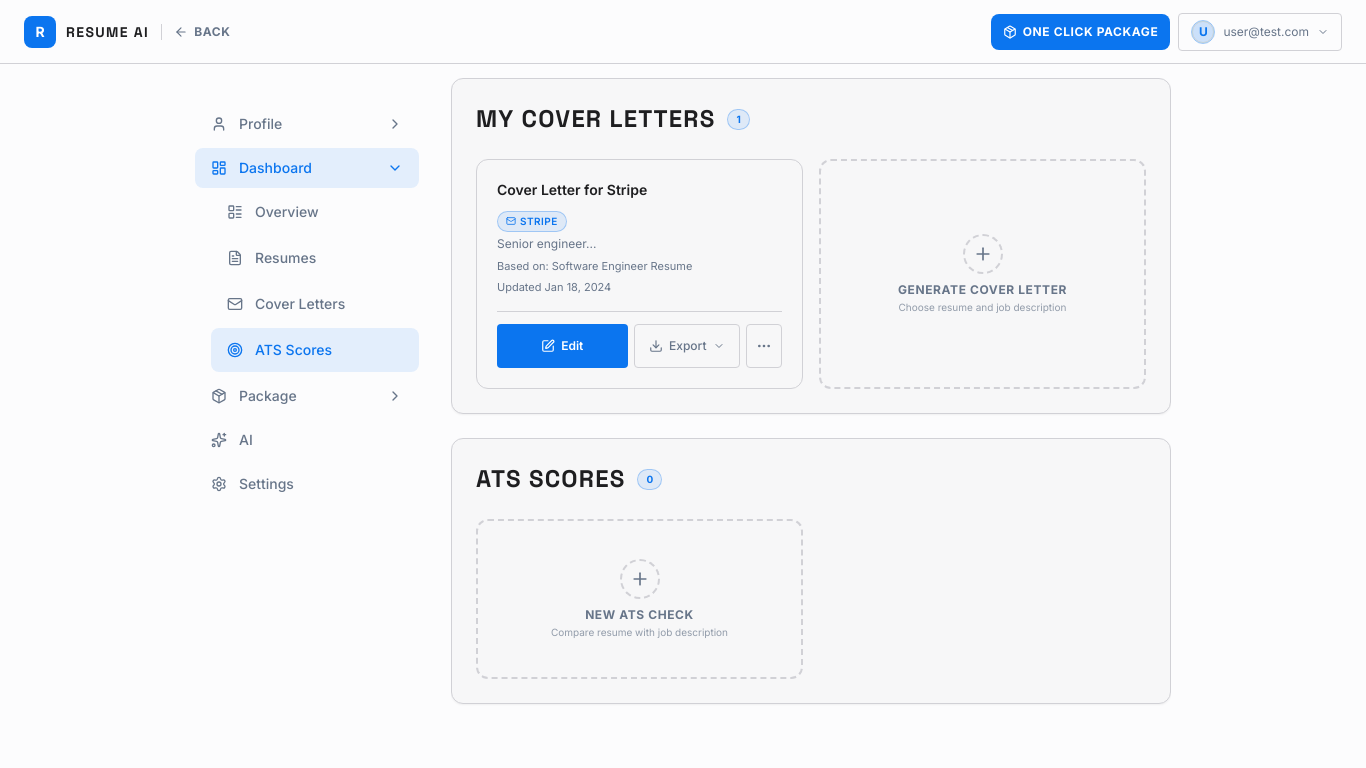
it: Dashboard — ATS check modal › runs the ATS check, shows the result, and persists the score
(page scrolled)
Click the text "New ATS Check" at (639, 614), box [585,606,694,622]
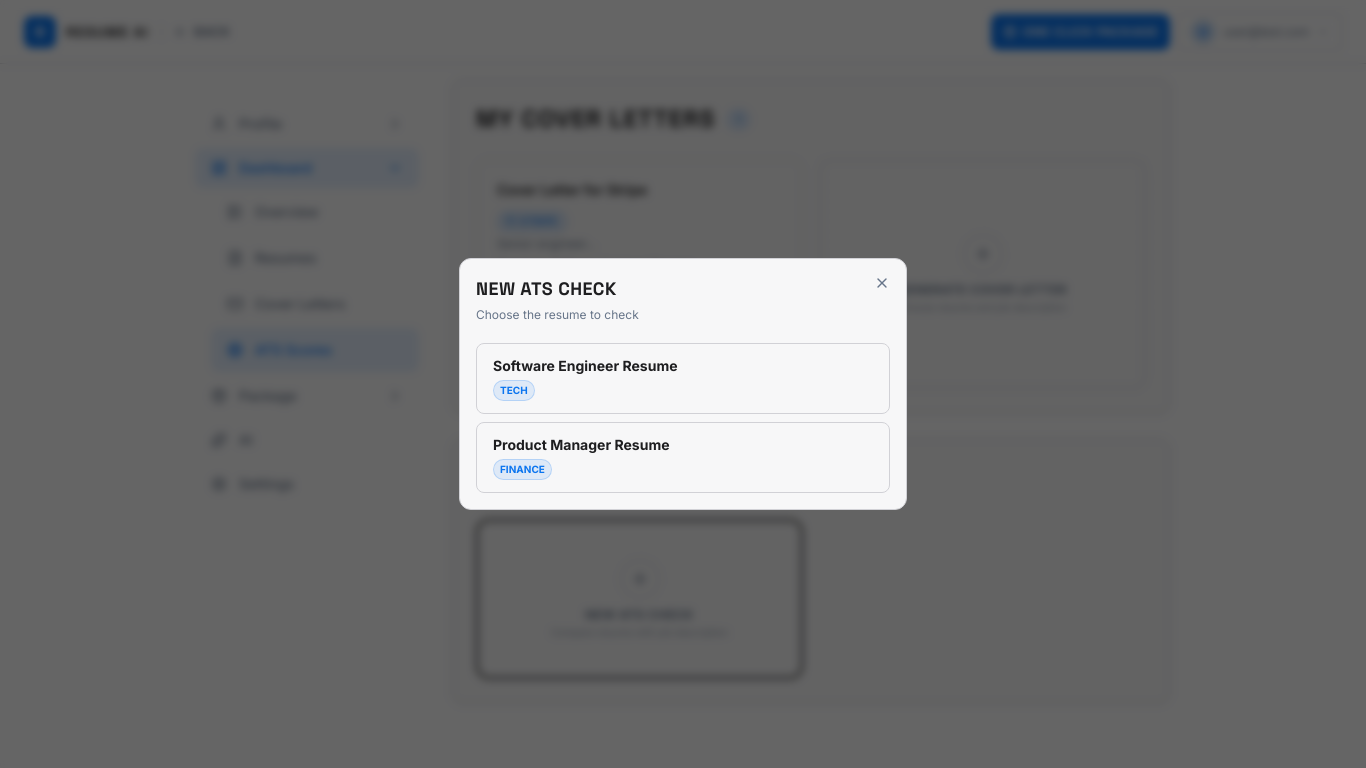
Now the heading "New ATS Check" is shown, box [476,277,617,300]
Click the button "Software Engineer Resume tech" at (585, 366), box [476,343,890,414]
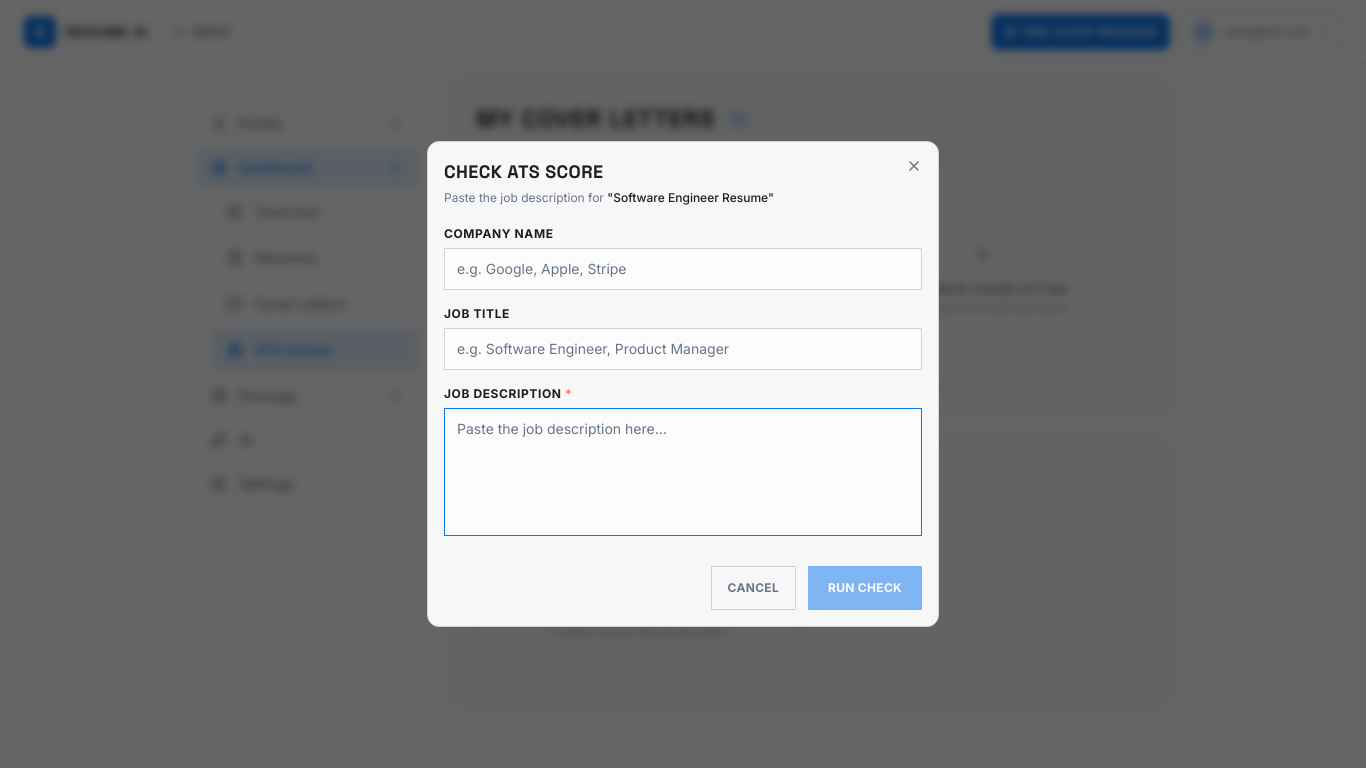
Now the text box with placeholder "Paste the job description here..." is shown
Type "We need a React engineer" into the text box with placeholder "Paste the job description here..." at (683, 472), box [444,408,922,536]
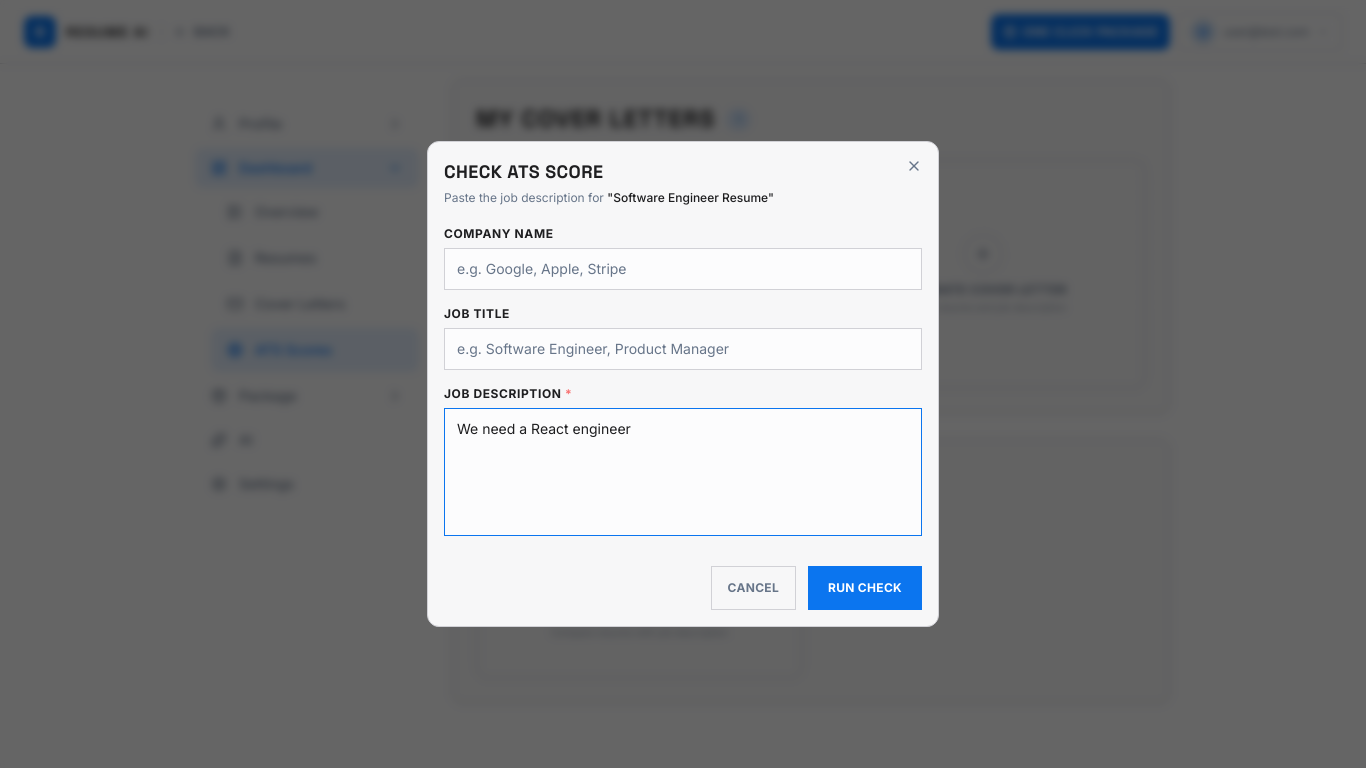
Click the button "Run Check" at (865, 588), box [808,566,922,610]
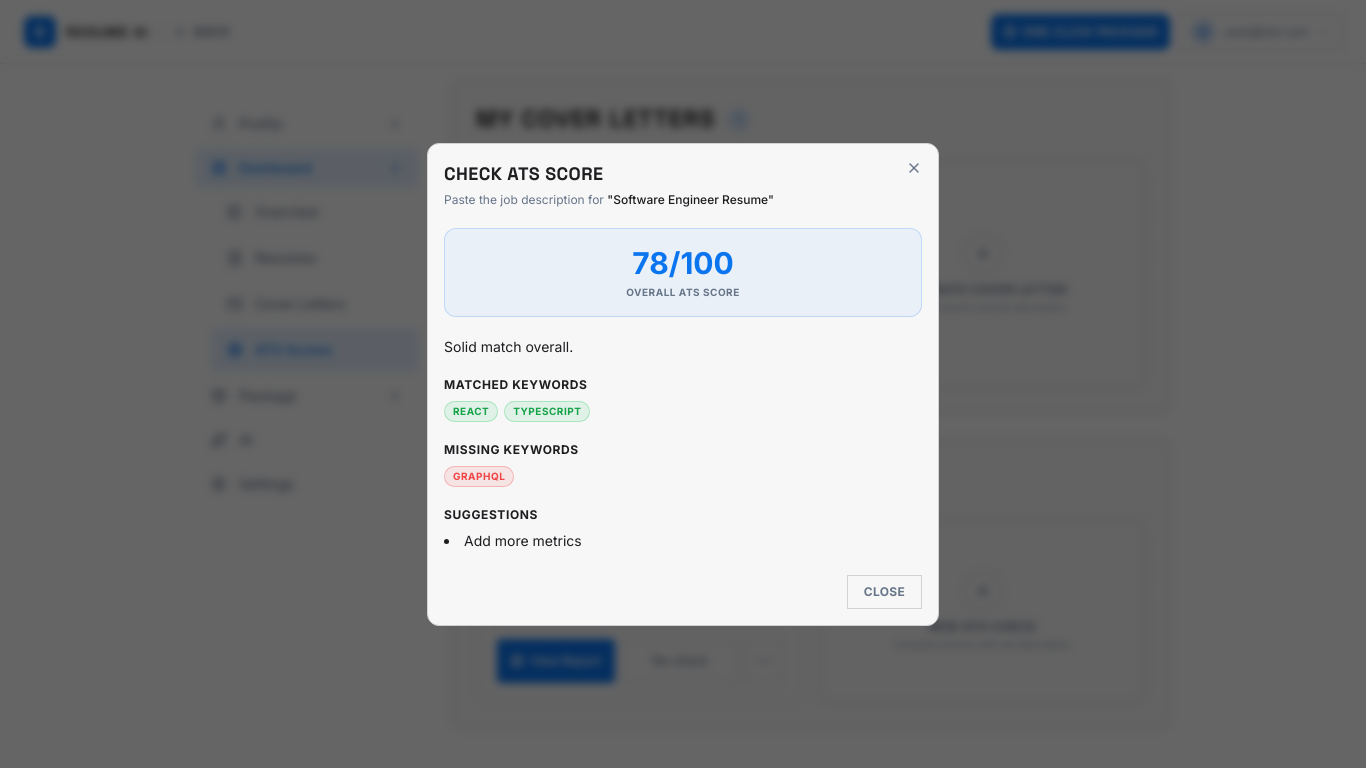
Now the text "Solid match overall." is shown, box [444,338,573,354]
Now the text "React" is shown, box [444,400,498,422]
Now the text "GraphQL" is shown, box [444,466,514,486]
